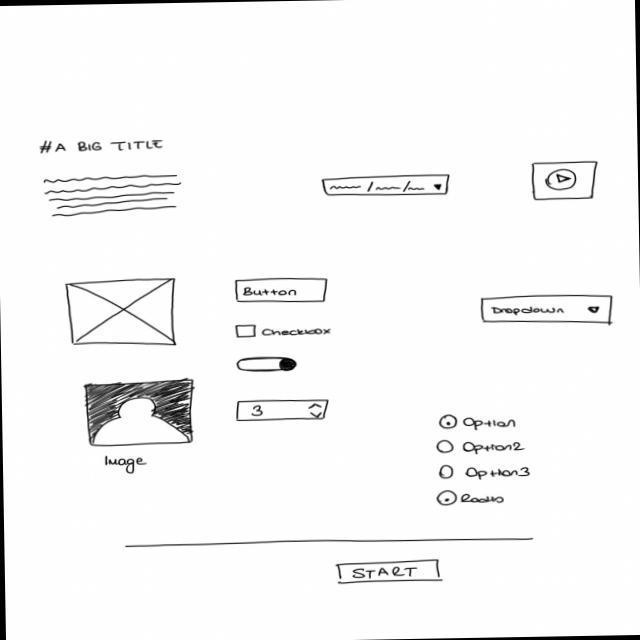button: (333, 557, 446, 587), (232, 275, 332, 306)
checkbox: (235, 322, 336, 340)
image: (65, 276, 179, 351), (84, 376, 198, 449)
label: (36, 137, 169, 157), (103, 453, 151, 475)
number-input: (233, 397, 332, 426)
radio: (438, 461, 534, 484), (433, 437, 528, 456), (432, 488, 510, 510), (437, 413, 519, 433)
select: (479, 291, 615, 328), (321, 172, 454, 200)
textbox: (42, 173, 184, 220)
toggle: (233, 355, 300, 375)
